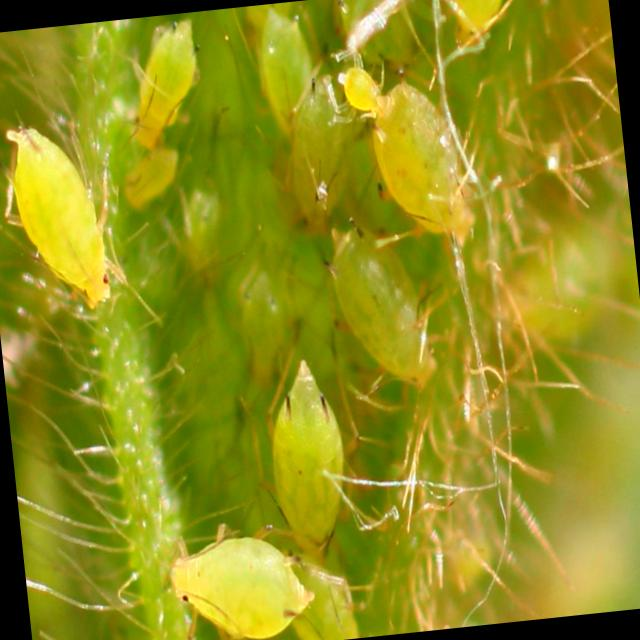Aphid: (335, 29, 509, 263), (0, 96, 132, 377), (145, 494, 311, 640), (252, 353, 357, 566), (318, 215, 438, 401), (272, 70, 363, 228), (115, 18, 214, 161)
